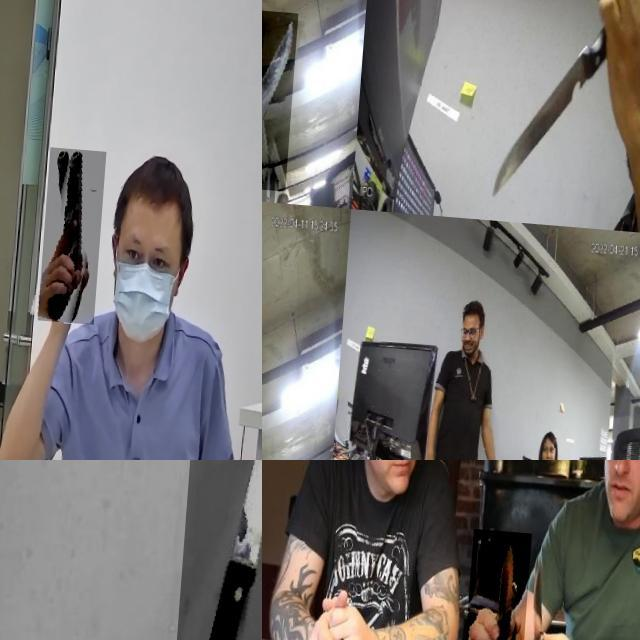-: (497, 28, 597, 196), (175, 460, 262, 640), (470, 523, 536, 640), (262, 5, 300, 186), (529, 542, 590, 640), (262, 267, 292, 455)
gun-knife-thesis - v11 Yolov5 augmented: (44, 143, 110, 319)
